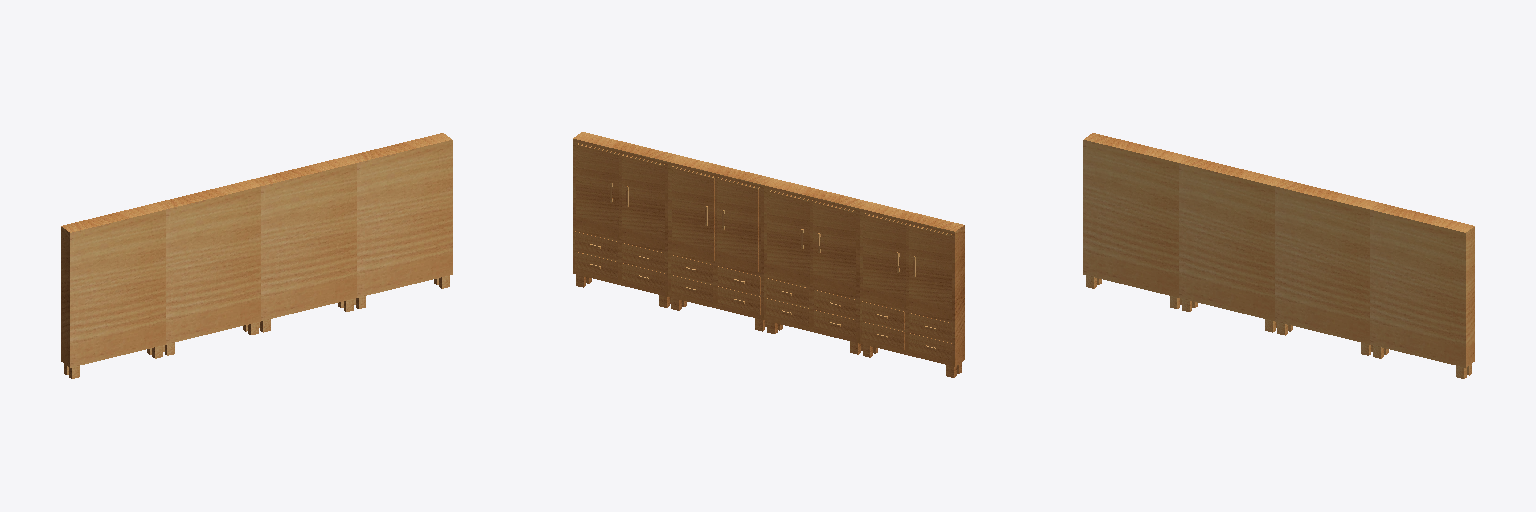
3 views of the same model, side by side, from view 1: azimuth 30°, elevation 25°; view 2: azimuth 150°, elevation 25°; view 3: azimuth 330°, elevation 25° (orthographic).
Visible parts, largest first — view 1: Armario.001_Cube.011_Cube.016; view 2: Armario.001_Cube.011_Cube.016; view 3: Armario.001_Cube.011_Cube.016.
Part boxes in pixels (x1,y1,x2,y2): Armario.001_Cube.011_Cube.016: (61,133,452,378); Armario.001_Cube.011_Cube.016: (573,132,964,377); Armario.001_Cube.011_Cube.016: (1083,133,1474,378).
Bounding box in the file's own units: 55.31 × 20.38 × 2.72.
Materials: 1 (1 with a texture image).